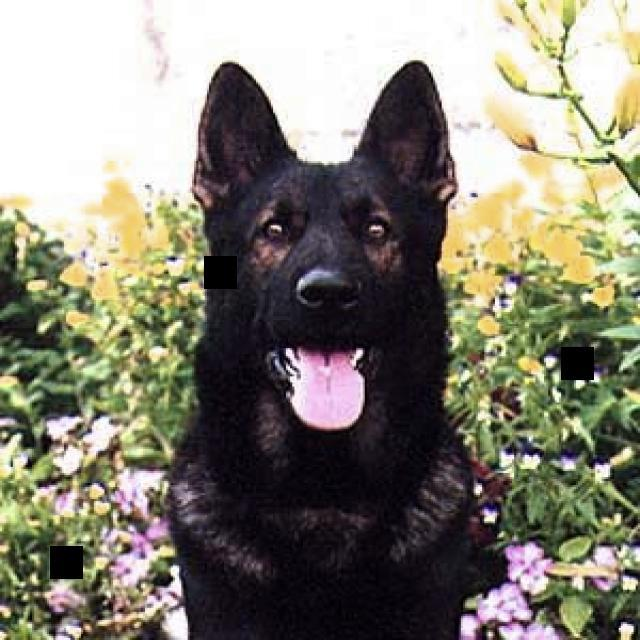adult_dog: (169, 57, 484, 640)
